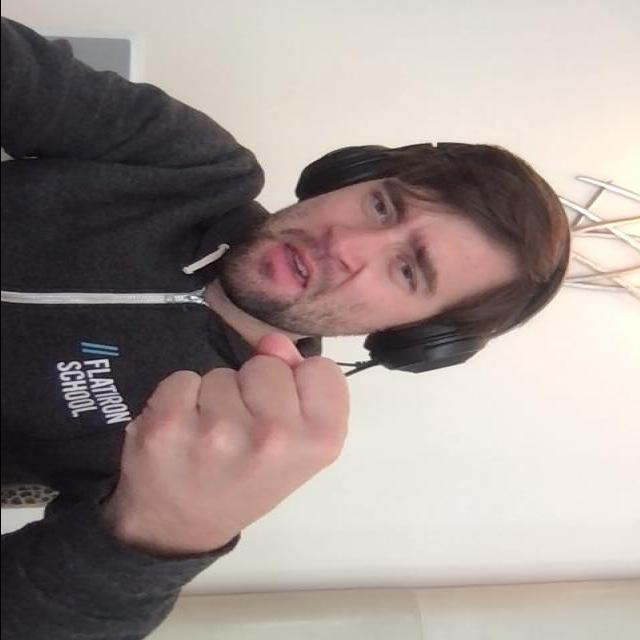Rock: (116, 336, 356, 533)
